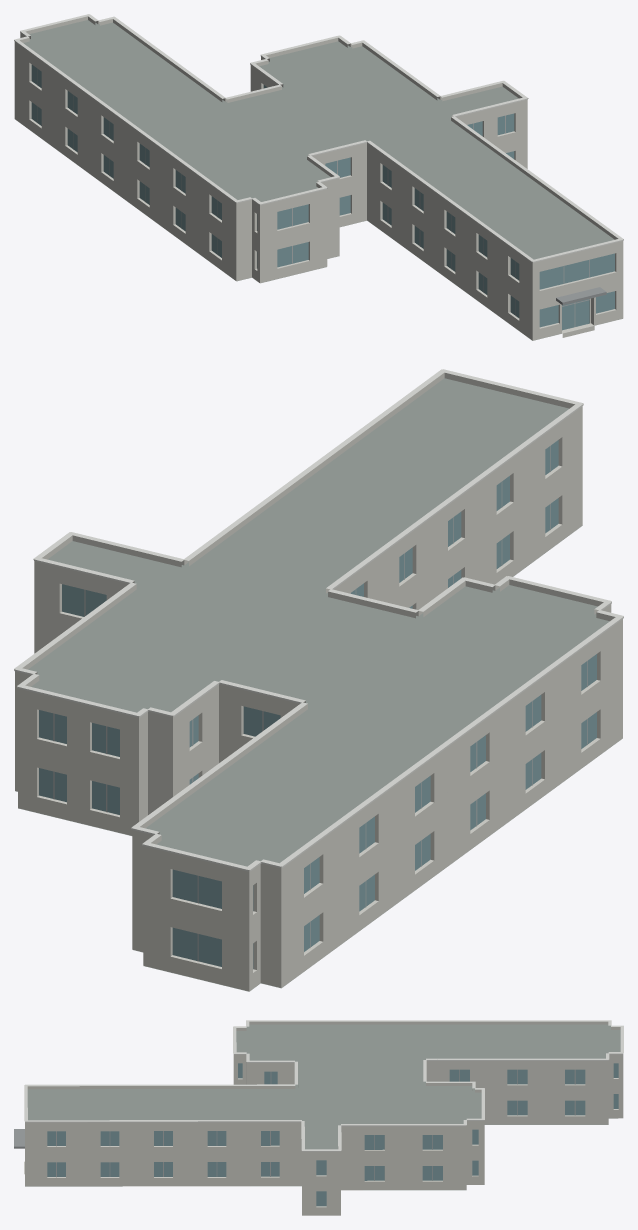
The picture shows the model from 3 angles, top to bottom: view 1: azimuth 30°, elevation 25°; view 2: azimuth 150°, elevation 25°; view 3: azimuth 270°, elevation 25°; orthographic projection. The views are drawn at different scales.
Parts seen in each view (by area): view 1: osm761589239__roof, osm761589239__wall, osm761589239__glass, osm761589239__trim, osm761589239__parapet, osm761589239__frame, osm761589239__canopy; view 2: osm761589239__roof, osm761589239__wall, osm761589239__glass, osm761589239__trim, osm761589239__parapet, osm761589239__frame; view 3: osm761589239__wall, osm761589239__roof, osm761589239__glass, osm761589239__trim, osm761589239__parapet, osm761589239__frame.
Part boxes in pixels (x1,y1,x2,y2): osm761589239__roof: (15, 20, 622, 340); osm761589239__wall: (14, 35, 623, 340); osm761589239__glass: (31, 64, 614, 330); osm761589239__trim: (14, 14, 623, 262); osm761589239__parapet: (14, 16, 623, 265); osm761589239__frame: (37, 69, 589, 326); osm761589239__canopy: (556, 287, 606, 305); osm761589239__roof: (15, 378, 622, 991); osm761589239__wall: (15, 409, 622, 991); osm761589239__glass: (39, 440, 596, 968); osm761589239__trim: (14, 369, 623, 871); osm761589239__parapet: (15, 372, 622, 875); osm761589239__frame: (53, 445, 587, 961); osm761589239__wall: (25, 1056, 623, 1215); osm761589239__roof: (25, 1024, 620, 1190); osm761589239__glass: (47, 1063, 618, 1206); osm761589239__trim: (24, 1020, 623, 1151); osm761589239__parapet: (25, 1021, 623, 1153); osm761589239__frame: (56, 1069, 575, 1180).
Size of the model in its own units: 32.58 by 7.95 by 64.24.
